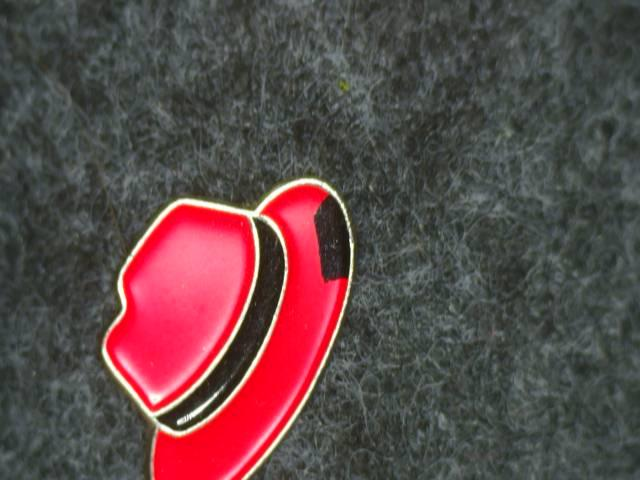Red-Hat: (76, 151, 390, 480)
Scratch: (301, 179, 373, 297)
